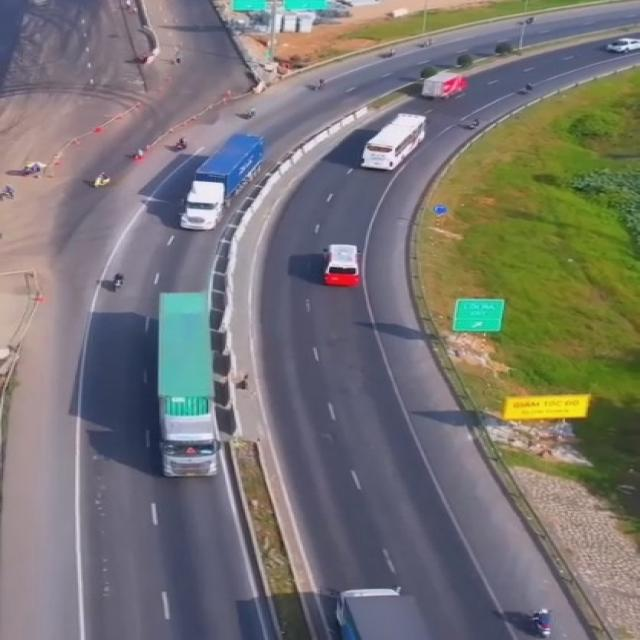bus: (355, 110, 425, 172), (323, 240, 365, 288)
motorbike: (526, 606, 554, 640), (107, 271, 128, 292)
truck: (154, 291, 215, 483), (184, 134, 263, 230), (329, 585, 427, 640), (420, 72, 465, 97)
